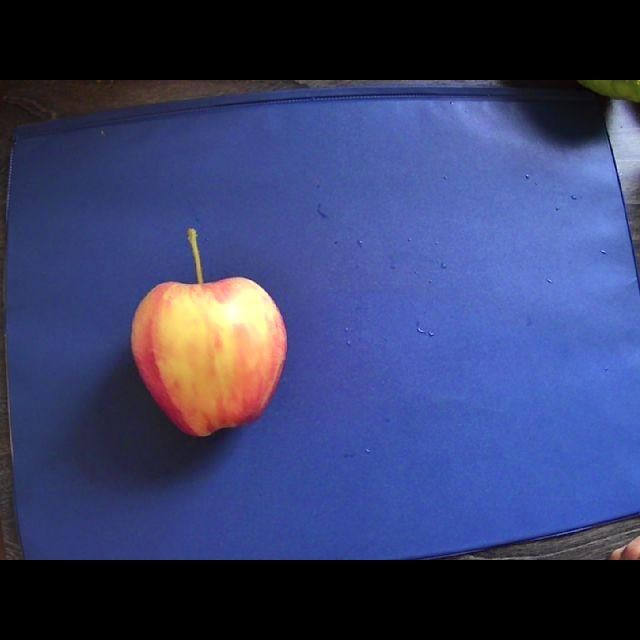manzana: (131, 228, 286, 436)
